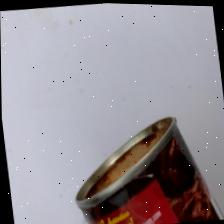metal: (62, 88, 224, 224)
